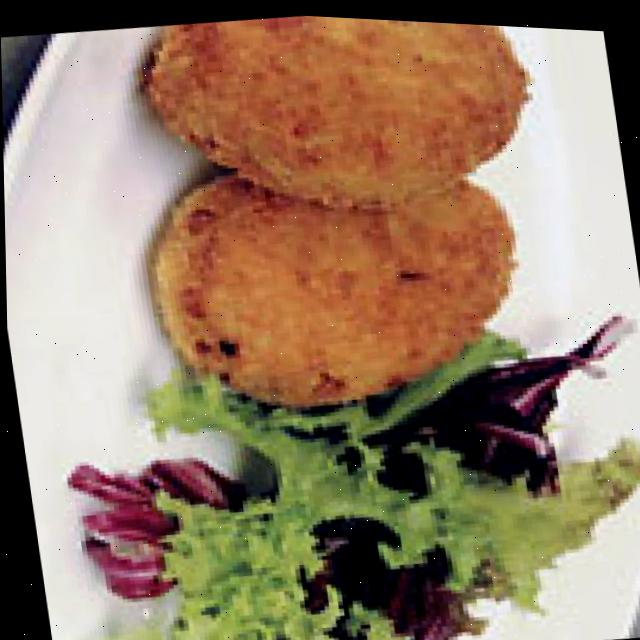炸货点心: (106, 4, 571, 424)
